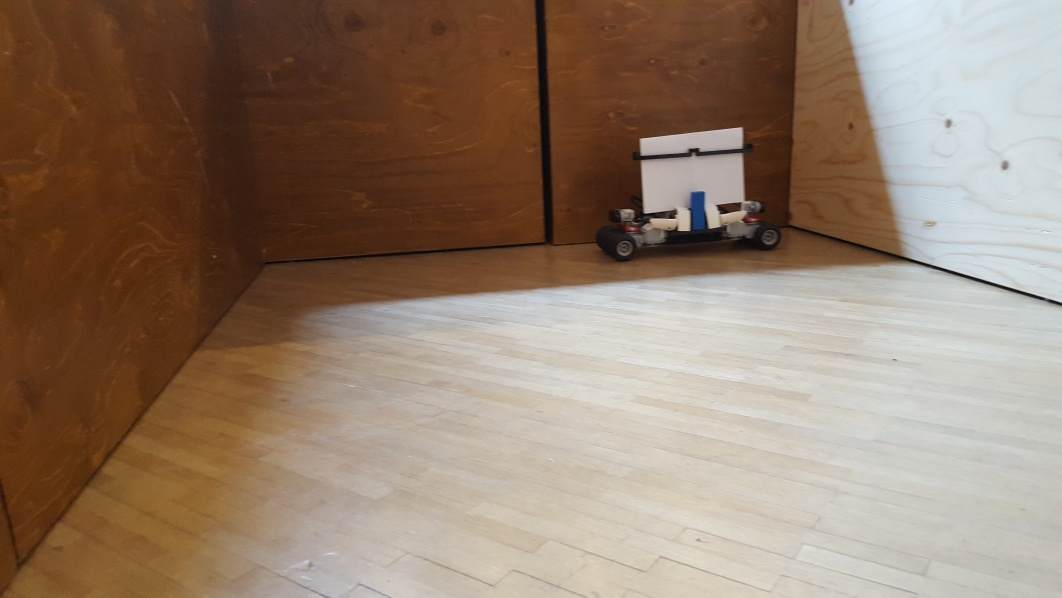beam: (690, 189, 709, 235)
